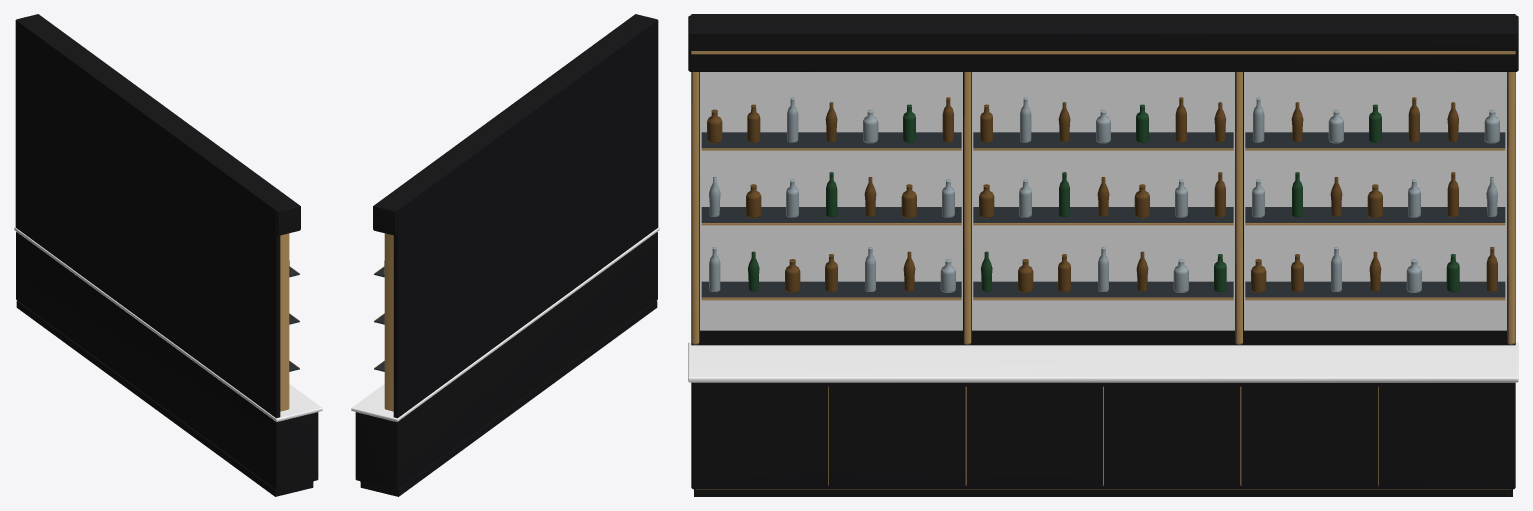
File: back_bar_onyx.glb
3 views of the same model, side by side, from view 1: azimuth 30°, elevation 25°; view 2: azimuth 150°, elevation 25°; view 3: azimuth 270°, elevation 25° (orthographic). The views are drawn at different scales.
Parts seen in each view (by area): view 1: Mesh_Back, Mesh_Cabinet, Mesh_Header, Mesh_Kick, Mesh_Top, Mesh_Fin3; view 2: Mesh_Back, Mesh_Cabinet, Mesh_Header, Mesh_Kick, Mesh_Top, Mesh_Fin0; view 3: Mesh_Cabinet, Mesh_Onyx2, Mesh_Onyx1, Mesh_Onyx0, Mesh_Header, Mesh_Top, Mesh_Back, Mesh_Kick, Mesh_Shelf1_2, Mesh_Shelf0_2, Mesh_Shelf2_2, Mesh_Shelf2_0 (+13 smaller).
Boxes of the visible parts, <box> form: Mesh_Back: <box>15,19,280,418</box>; Mesh_Cabinet: <box>16,232,318,489</box>; Mesh_Header: <box>17,14,300,235</box>; Mesh_Kick: <box>16,300,313,496</box>; Mesh_Top: <box>14,227,322,421</box>; Mesh_Fin3: <box>280,233,289,411</box>; Mesh_Back: <box>393,19,658,418</box>; Mesh_Cabinet: <box>355,232,657,489</box>; Mesh_Header: <box>373,14,656,235</box>; Mesh_Kick: <box>360,300,657,496</box>; Mesh_Top: <box>351,227,659,421</box>; Mesh_Fin0: <box>384,233,393,411</box>; Mesh_Cabinet: <box>691,382,1515,489</box>; Mesh_Onyx2: <box>700,72,962,330</box>; Mesh_Onyx1: <box>972,72,1234,330</box>; Mesh_Onyx0: <box>1244,72,1506,330</box>; Mesh_Header: <box>688,15,1518,71</box>; Mesh_Top: <box>688,342,1518,382</box>; Mesh_Back: <box>691,14,1515,345</box>; Mesh_Kick: <box>694,489,1512,496</box>; Mesh_Shelf1_2: <box>973,132,1233,148</box>; Mesh_Shelf0_2: <box>1245,132,1505,148</box>; Mesh_Shelf2_2: <box>701,132,961,148</box>; Mesh_Shelf2_0: <box>701,281,961,297</box>.
Bounding box in the file's own units: 0.58 × 3.4 × 5.64.
